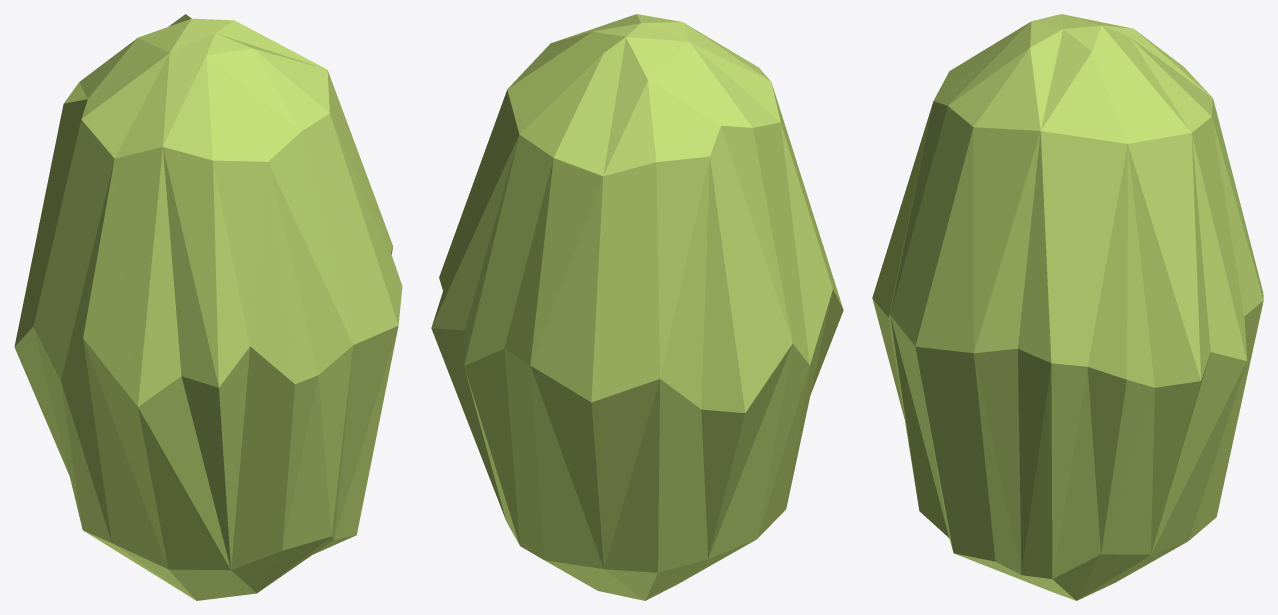
File: _actus1.fbx
3 views of the same model, side by side, from view 1: azimuth 30°, elevation 25°; view 2: azimuth 150°, elevation 25°; view 3: azimuth 270°, elevation 25° (orthographic).
Parts seen in each view (by area): view 1: Sphere.005; view 2: Sphere.005; view 3: Sphere.005.
Part boxes in pixels (x1,y1,x2,y2): Sphere.005: (14, 14, 402, 600); Sphere.005: (431, 14, 843, 600); Sphere.005: (872, 14, 1263, 600).
Size of the model in its own units: 33.51 by 52.89 by 33.68.
